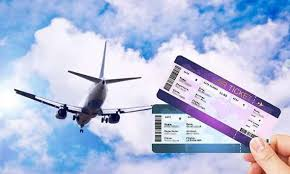maybay_dansu: (14, 53, 160, 133)
